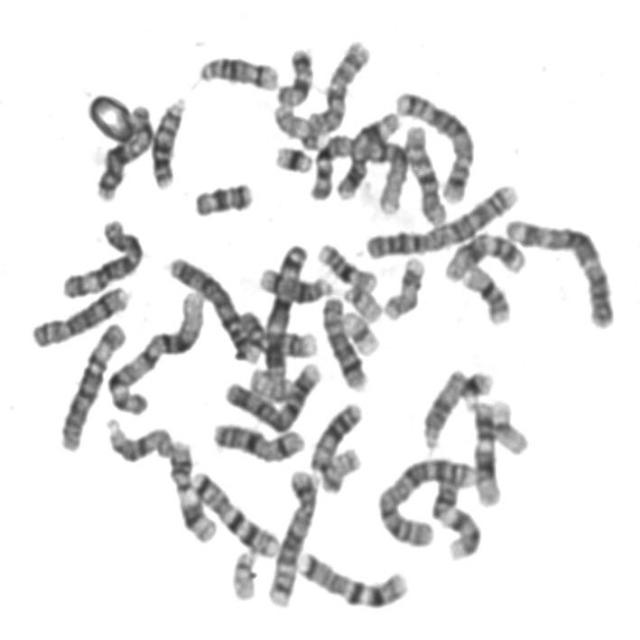A1: (101, 284, 207, 416), (306, 124, 411, 216)
A2: (360, 175, 523, 259), (374, 450, 480, 550)
A3: (500, 210, 618, 330), (260, 236, 311, 387)
B4: (163, 249, 258, 360), (219, 354, 325, 436)
B5: (389, 85, 477, 206), (262, 462, 321, 609)
C10: (301, 34, 373, 136), (400, 117, 450, 228)
C11: (332, 105, 403, 201), (165, 432, 221, 546)
C12: (439, 225, 530, 283), (468, 396, 504, 508)
C6: (55, 314, 130, 453), (57, 213, 146, 301)
C7: (186, 464, 283, 560), (292, 544, 412, 610)
C8: (25, 280, 133, 349), (317, 289, 372, 393)
C9: (426, 466, 486, 563), (233, 305, 319, 361)
D13: (305, 395, 365, 475), (146, 91, 190, 190)
D14: (193, 48, 282, 92), (254, 260, 336, 304)
D15: (418, 362, 468, 451), (100, 412, 177, 464)
E16: (458, 258, 514, 326), (313, 236, 380, 292)
E17: (379, 250, 428, 322), (268, 98, 324, 150)
E18: (271, 41, 316, 108), (188, 175, 256, 219)
F19: (486, 393, 532, 457), (338, 304, 382, 357)
F20: (316, 442, 364, 496), (245, 362, 297, 403)
G21: (457, 363, 496, 409), (270, 138, 316, 175)
G22: (338, 278, 384, 324), (226, 544, 261, 604)
X: (90, 98, 154, 202), (208, 416, 308, 464)
